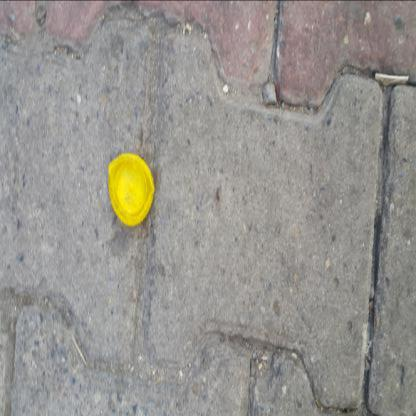Bottle: (108, 154, 155, 227)
Unlabeled litter: (375, 74, 408, 85)
